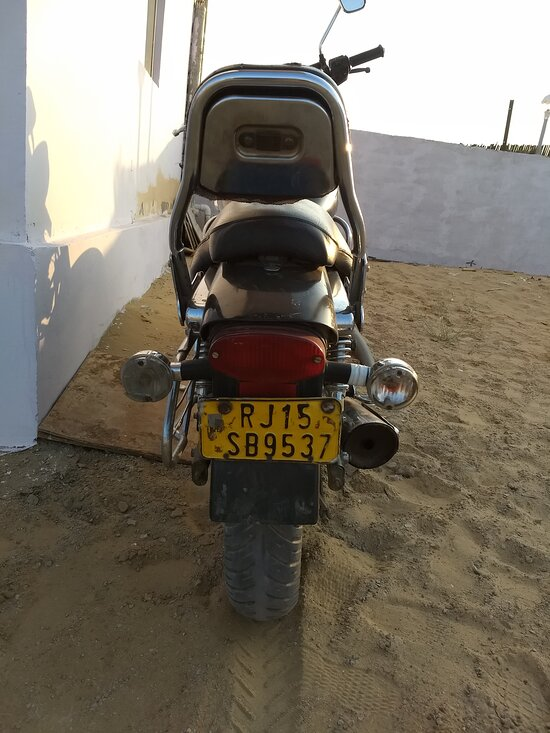doublelinenumberplate: (195, 392, 344, 465)
